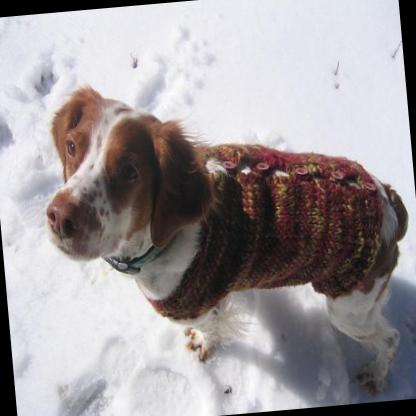Brittany_spaniel: (31, 52, 416, 416)
